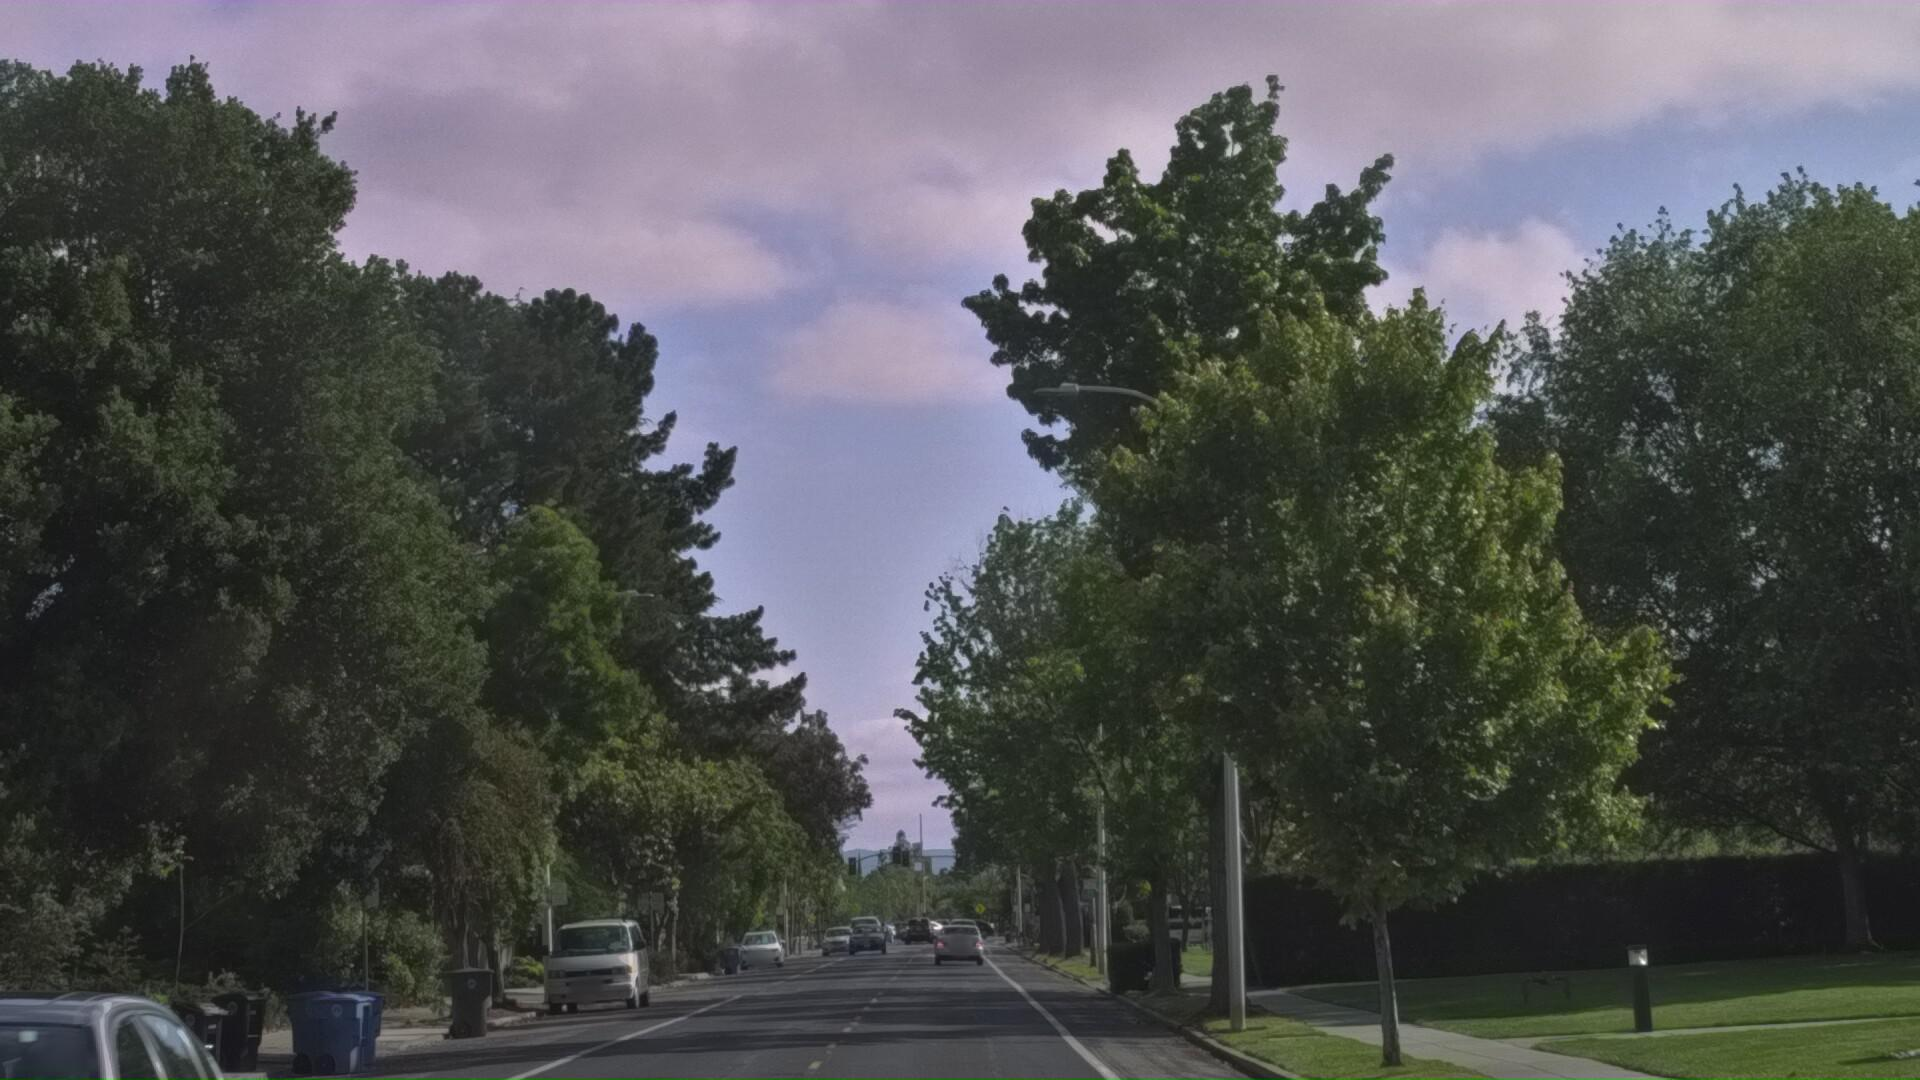car: (0, 1011, 310, 1080), (538, 1021, 670, 1080)
